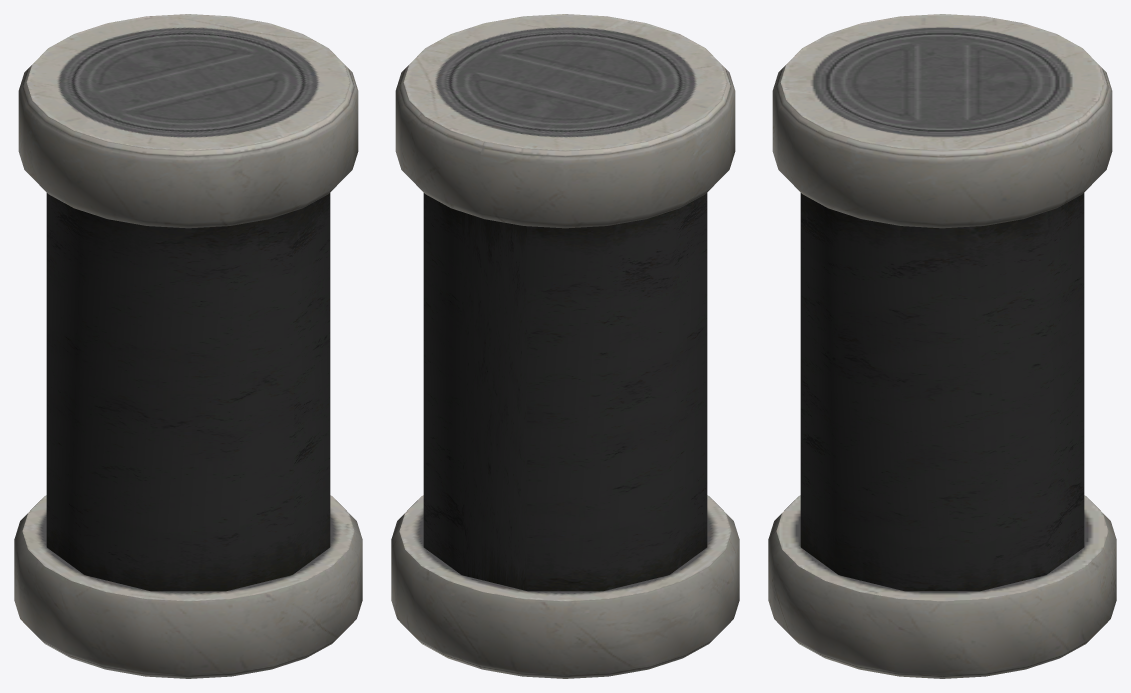
File: fish_cylinder.dae
The picture shows the model from 3 angles, left to right: view 1: azimuth 30°, elevation 25°; view 2: azimuth 150°, elevation 25°; view 3: azimuth 270°, elevation 25°; orthographic projection.
Visible parts, largest first — view 1: glass, structure_gel; view 2: glass, structure_gel; view 3: glass, structure_gel.
Part boxes in pixels (left/top/right/bottom): glass: left=46, top=193, right=330, bottom=591; structure_gel: left=14, top=14, right=362, bottom=678; glass: left=423, top=193, right=707, bottom=591; structure_gel: left=391, top=14, right=739, bottom=678; glass: left=800, top=193, right=1084, bottom=591; structure_gel: left=768, top=14, right=1116, bottom=678.
Bounding box in the file's own units: 0.3578 × 0.596 × 0.3578.
